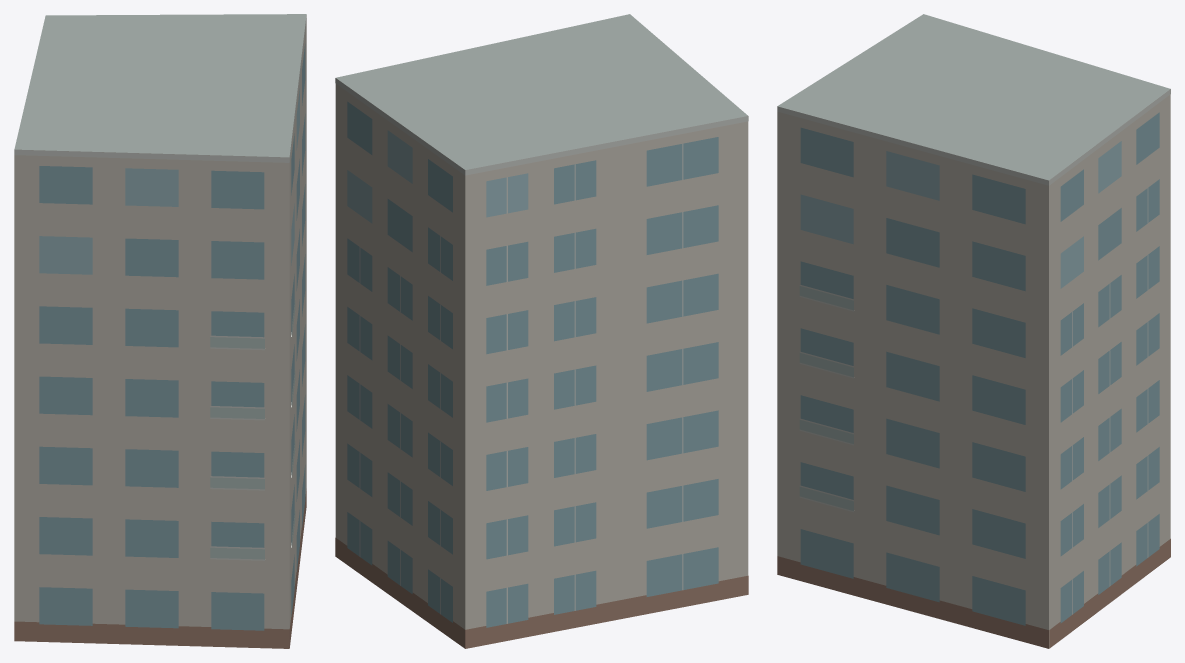
The model's file is survey-upis-32718180.glb.
The picture shows the model from 3 angles, left to right: view 1: azimuth 30°, elevation 25°; view 2: azimuth 150°, elevation 25°; view 3: azimuth 270°, elevation 25°; orthographic projection. The views are drawn at different scales.
Visible parts, largest first — view 1: survey-upis-32718180.tmp; view 2: survey-upis-32718180.tmp; view 3: survey-upis-32718180.tmp.
Boxes of the visible parts, x1=… form: survey-upis-32718180.tmp: x1=14, y1=14, x2=306, y2=648; survey-upis-32718180.tmp: x1=335, y1=14, x2=748, y2=648; survey-upis-32718180.tmp: x1=777, y1=14, x2=1170, y2=648.
Size of the model in its own units: 16.4 by 21.5 by 16.38.
